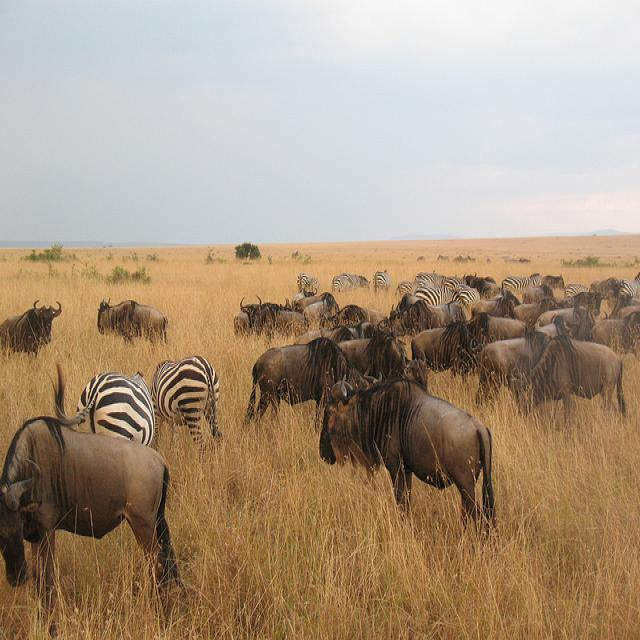cow: (0, 415, 186, 605), (317, 372, 497, 544), (243, 333, 382, 435), (334, 332, 426, 389), (0, 298, 60, 358), (477, 336, 529, 403)
